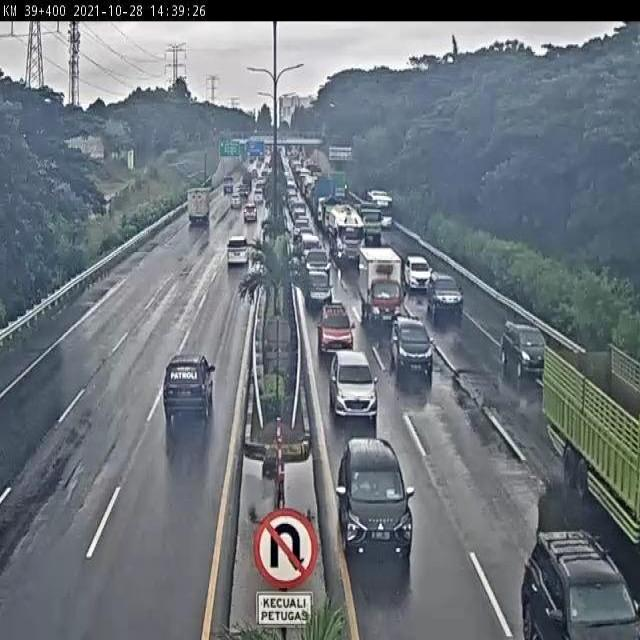big truck: (518, 316, 640, 543), (323, 206, 369, 270)
car: (512, 485, 640, 640), (338, 439, 415, 565), (148, 337, 221, 444), (326, 345, 381, 427), (497, 315, 553, 389), (386, 311, 433, 378), (316, 301, 360, 359), (424, 266, 461, 318), (220, 235, 253, 277), (403, 252, 433, 292), (235, 202, 261, 235), (248, 188, 266, 212), (226, 195, 246, 213), (232, 562, 233, 570)
small truck: (357, 246, 411, 326), (181, 180, 217, 236)
